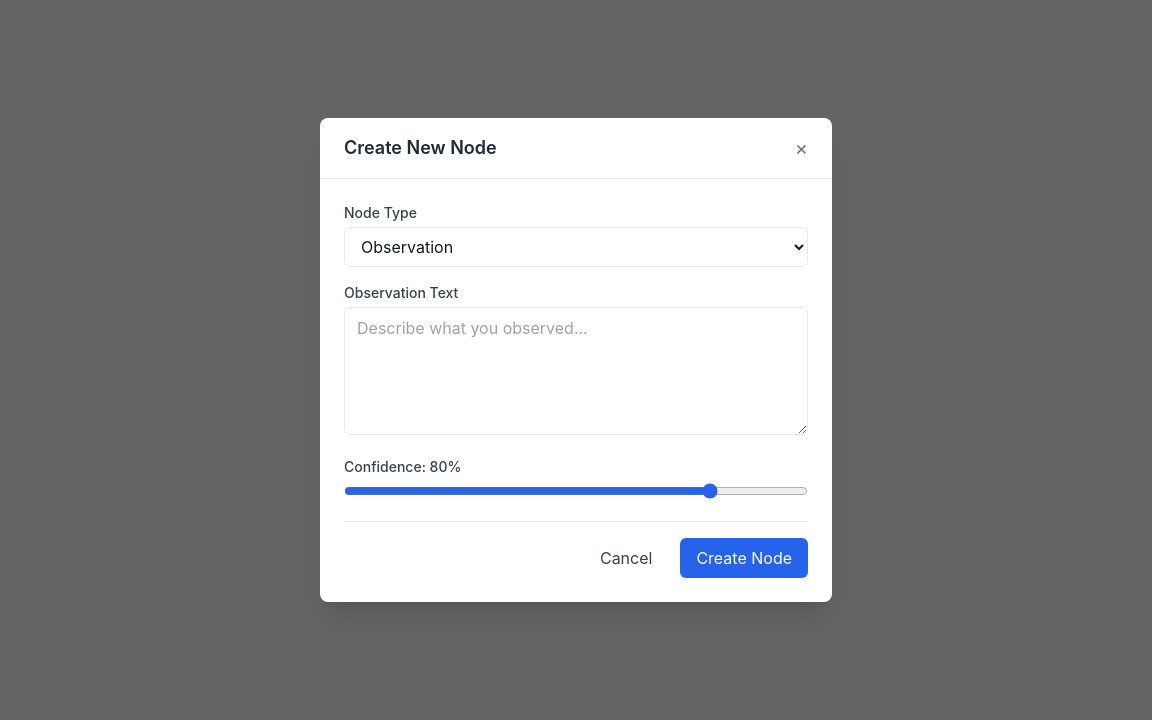
Test: CreateNodeModal › switches to entity form when entity is selected
Select "Entity" in the dropdown at (576, 247), box [344,227,808,267]
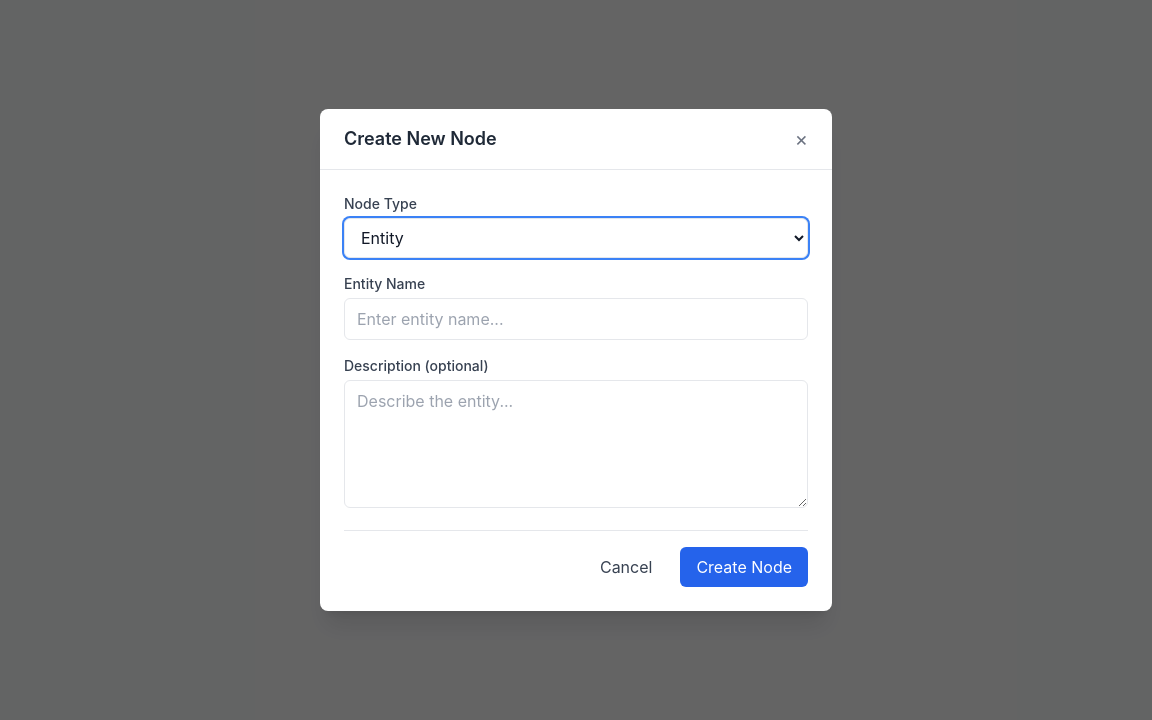
Now the field with placeholder "Enter entity name..." is shown, box [344,298,808,340]
Now the text box with placeholder "Describe the entity..." is shown, box [344,380,808,508]
